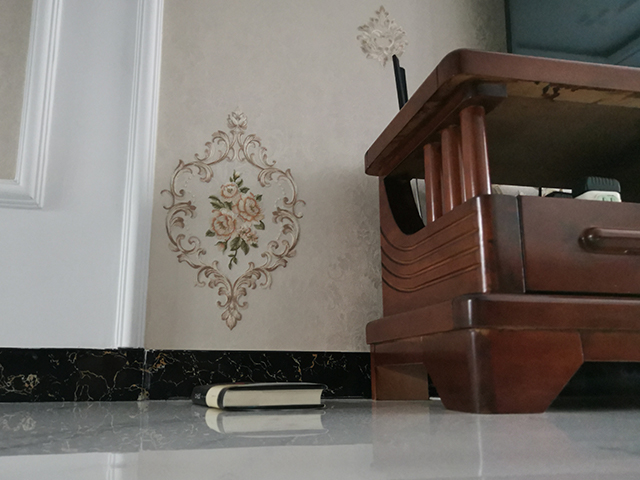book: (188, 382, 326, 411)
cabinet: (363, 46, 640, 416)
